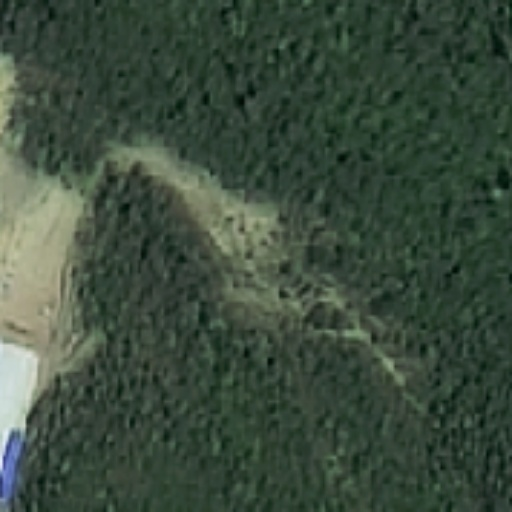landslide: (114, 134, 280, 292)
